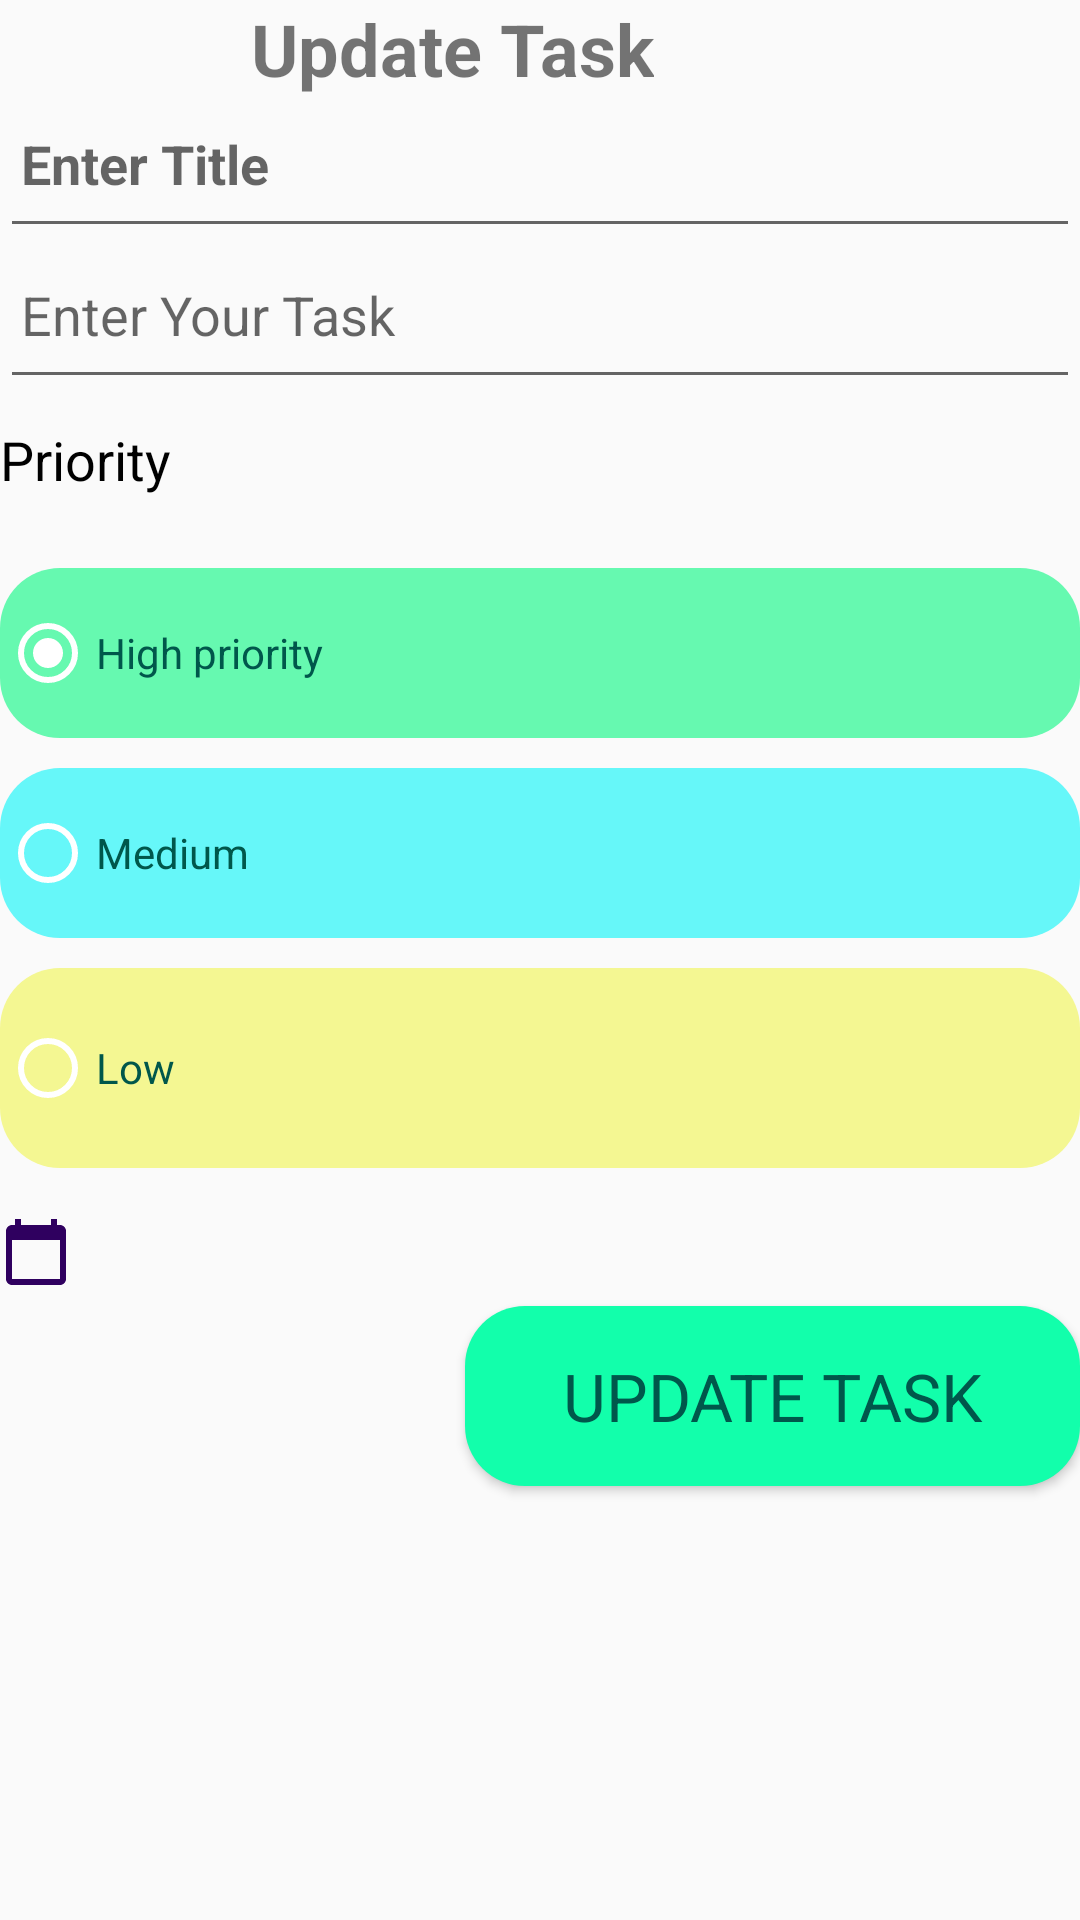

Locate icon controls on the screen. Image size 1080*1920, boxes as (x1, y1, x2, y2).
calendar: (6, 1219, 66, 1285)
